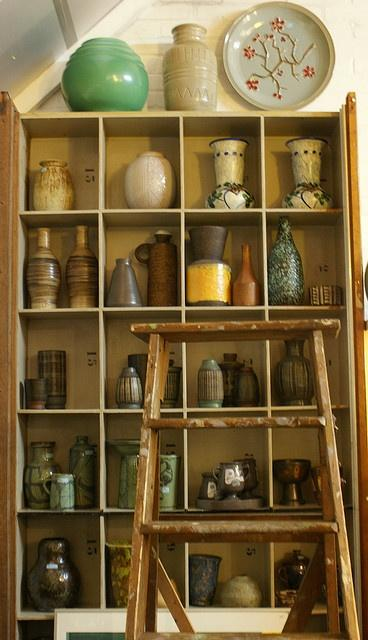Rak: (8, 110, 361, 639)
